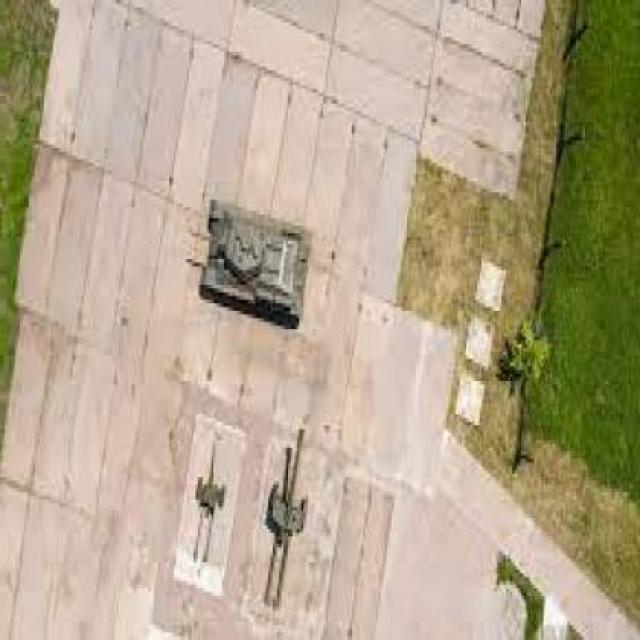tank: (190, 198, 313, 332)
